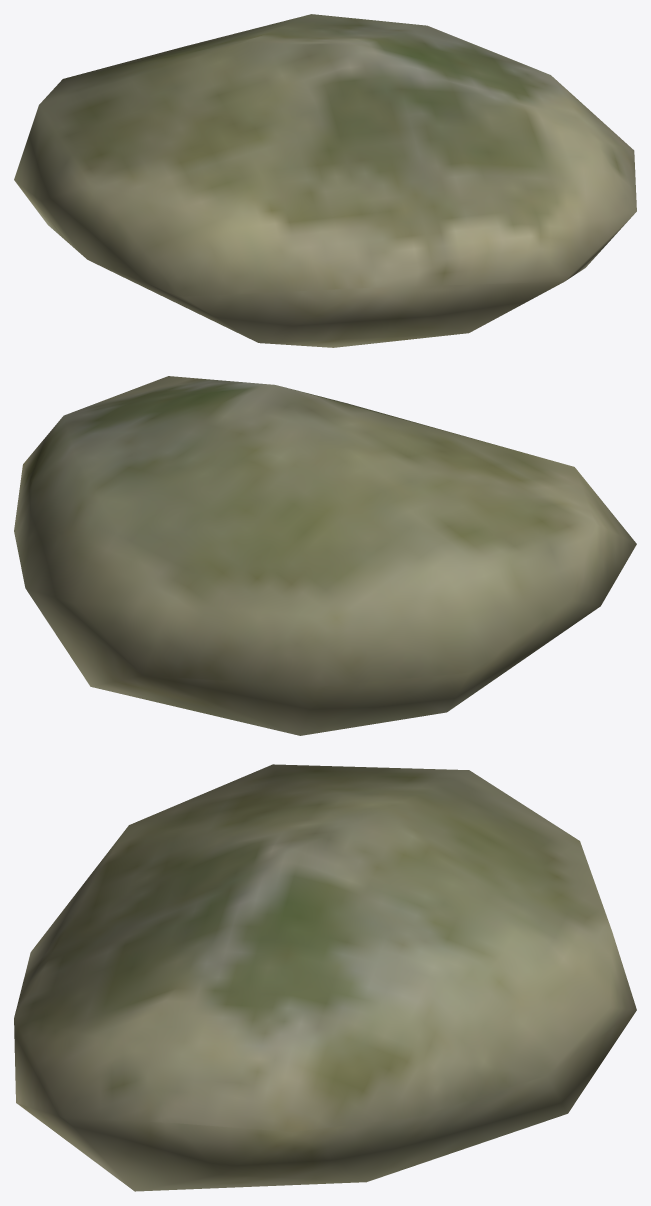
Rendered from SM_Pebble_1.fbx.
The picture shows the model from 3 angles, top to bottom: view 1: azimuth 30°, elevation 25°; view 2: azimuth 150°, elevation 25°; view 3: azimuth 270°, elevation 25°; orthographic projection. The views are drawn at different scales.
Visible parts, largest first — view 1: SM_Pebble_1_LOD0; view 2: SM_Pebble_1_LOD0; view 3: SM_Pebble_1_LOD0.
Part boxes in pixels (x1,y1,x2,y2): SM_Pebble_1_LOD0: [14, 14, 636, 347]; SM_Pebble_1_LOD0: [14, 376, 636, 735]; SM_Pebble_1_LOD0: [14, 764, 636, 1191].
Bounding box in the file's own units: 11.24 × 9.87 × 5.08.
